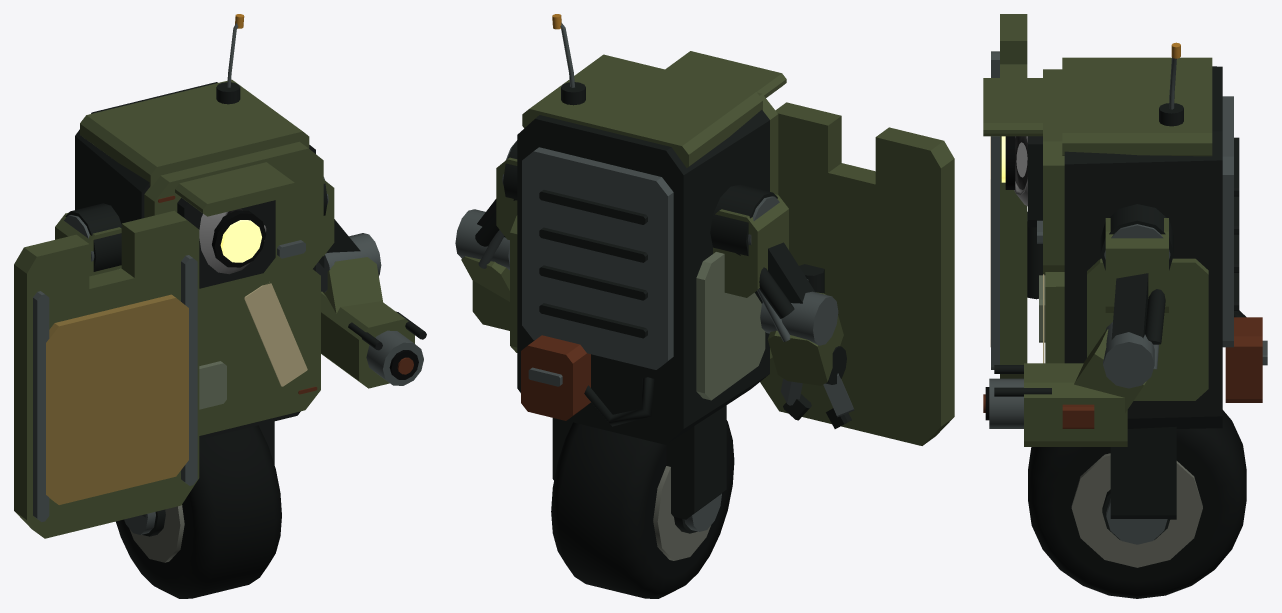
File: SHIELD_KLONK.lo.glb
The picture shows the model from 3 angles, left to right: view 1: azimuth 30°, elevation 25°; view 2: azimuth 150°, elevation 25°; view 3: azimuth 270°, elevation 25°; orthographic projection. The views are drawn at different scales.
Parts seen in each view (by area): view 1: body_geometry, shield_geometry, wheel_geometry, armR_geometry, armL_geometry; view 2: body_geometry, shield_geometry, wheel_geometry, armL_geometry, armR_geometry; view 3: body_geometry, wheel_geometry, armR_geometry, shield_geometry.
Part boxes in pixels (bbox=[...]): body_geometry: bbox=[65, 14, 327, 534]; shield_geometry: bbox=[14, 210, 199, 538]; wheel_geometry: bbox=[116, 425, 281, 598]; armR_geometry: bbox=[316, 177, 426, 388]; armL_geometry: bbox=[55, 212, 121, 276]; body_geometry: bbox=[503, 14, 786, 531]; shield_geometry: bbox=[760, 102, 954, 445]; wheel_geometry: bbox=[551, 420, 734, 598]; armL_geometry: bbox=[713, 194, 854, 428]; armR_geometry: bbox=[455, 140, 517, 330]; body_geometry: bbox=[983, 42, 1267, 544]; wheel_geometry: bbox=[1028, 410, 1246, 598]; armR_geometry: bbox=[983, 218, 1170, 446]; shield_geometry: bbox=[990, 14, 1045, 378].
Size of the model in its own units: 1.02 by 1.3 by 0.5861.
2 materials, 1 textured.
